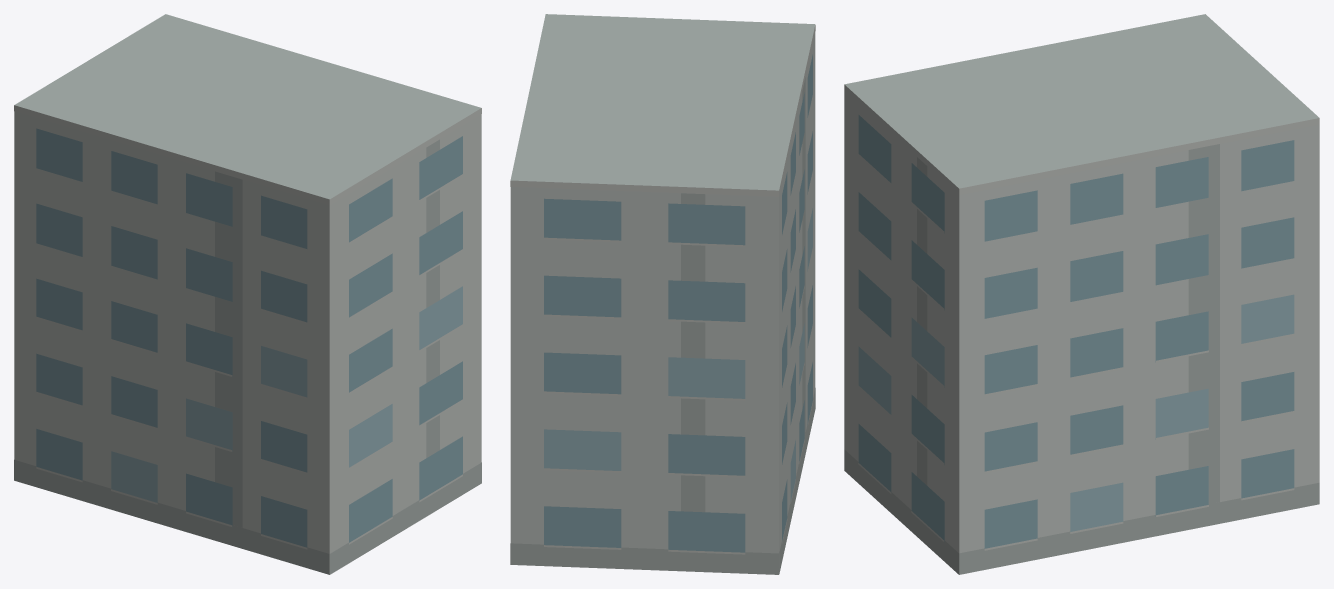
Rendered from survey-upis-32892653.glb.
3 views of the same model, side by side, from view 1: azimuth 30°, elevation 25°; view 2: azimuth 150°, elevation 25°; view 3: azimuth 270°, elevation 25° (orthographic). The views are drawn at different scales.
Parts seen in each view (by area): view 1: survey-upis-32892653.tmp; view 2: survey-upis-32892653.tmp; view 3: survey-upis-32892653.tmp.
Boxes of the visible parts, box(x1,y1,x2,y2) form: survey-upis-32892653.tmp: box(14, 14, 481, 574); survey-upis-32892653.tmp: box(510, 14, 815, 574); survey-upis-32892653.tmp: box(844, 14, 1319, 574).
Bounding box in the file's own units: 14.26 × 14.7 × 16.41.
